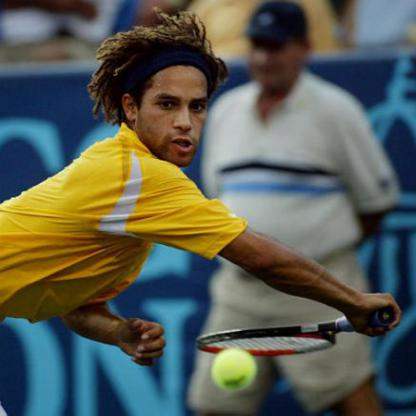face: (134, 41, 221, 170), (246, 6, 304, 88)
